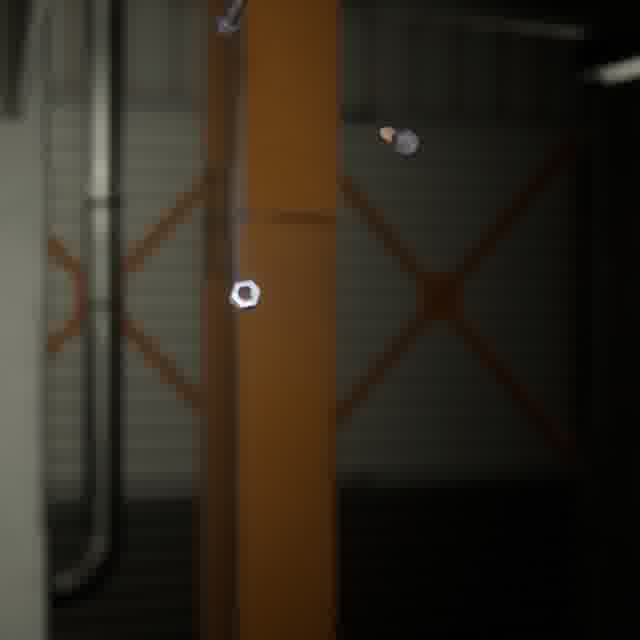bolt: (206, 0, 253, 43), (375, 121, 424, 161)
nut: (224, 275, 265, 315)
